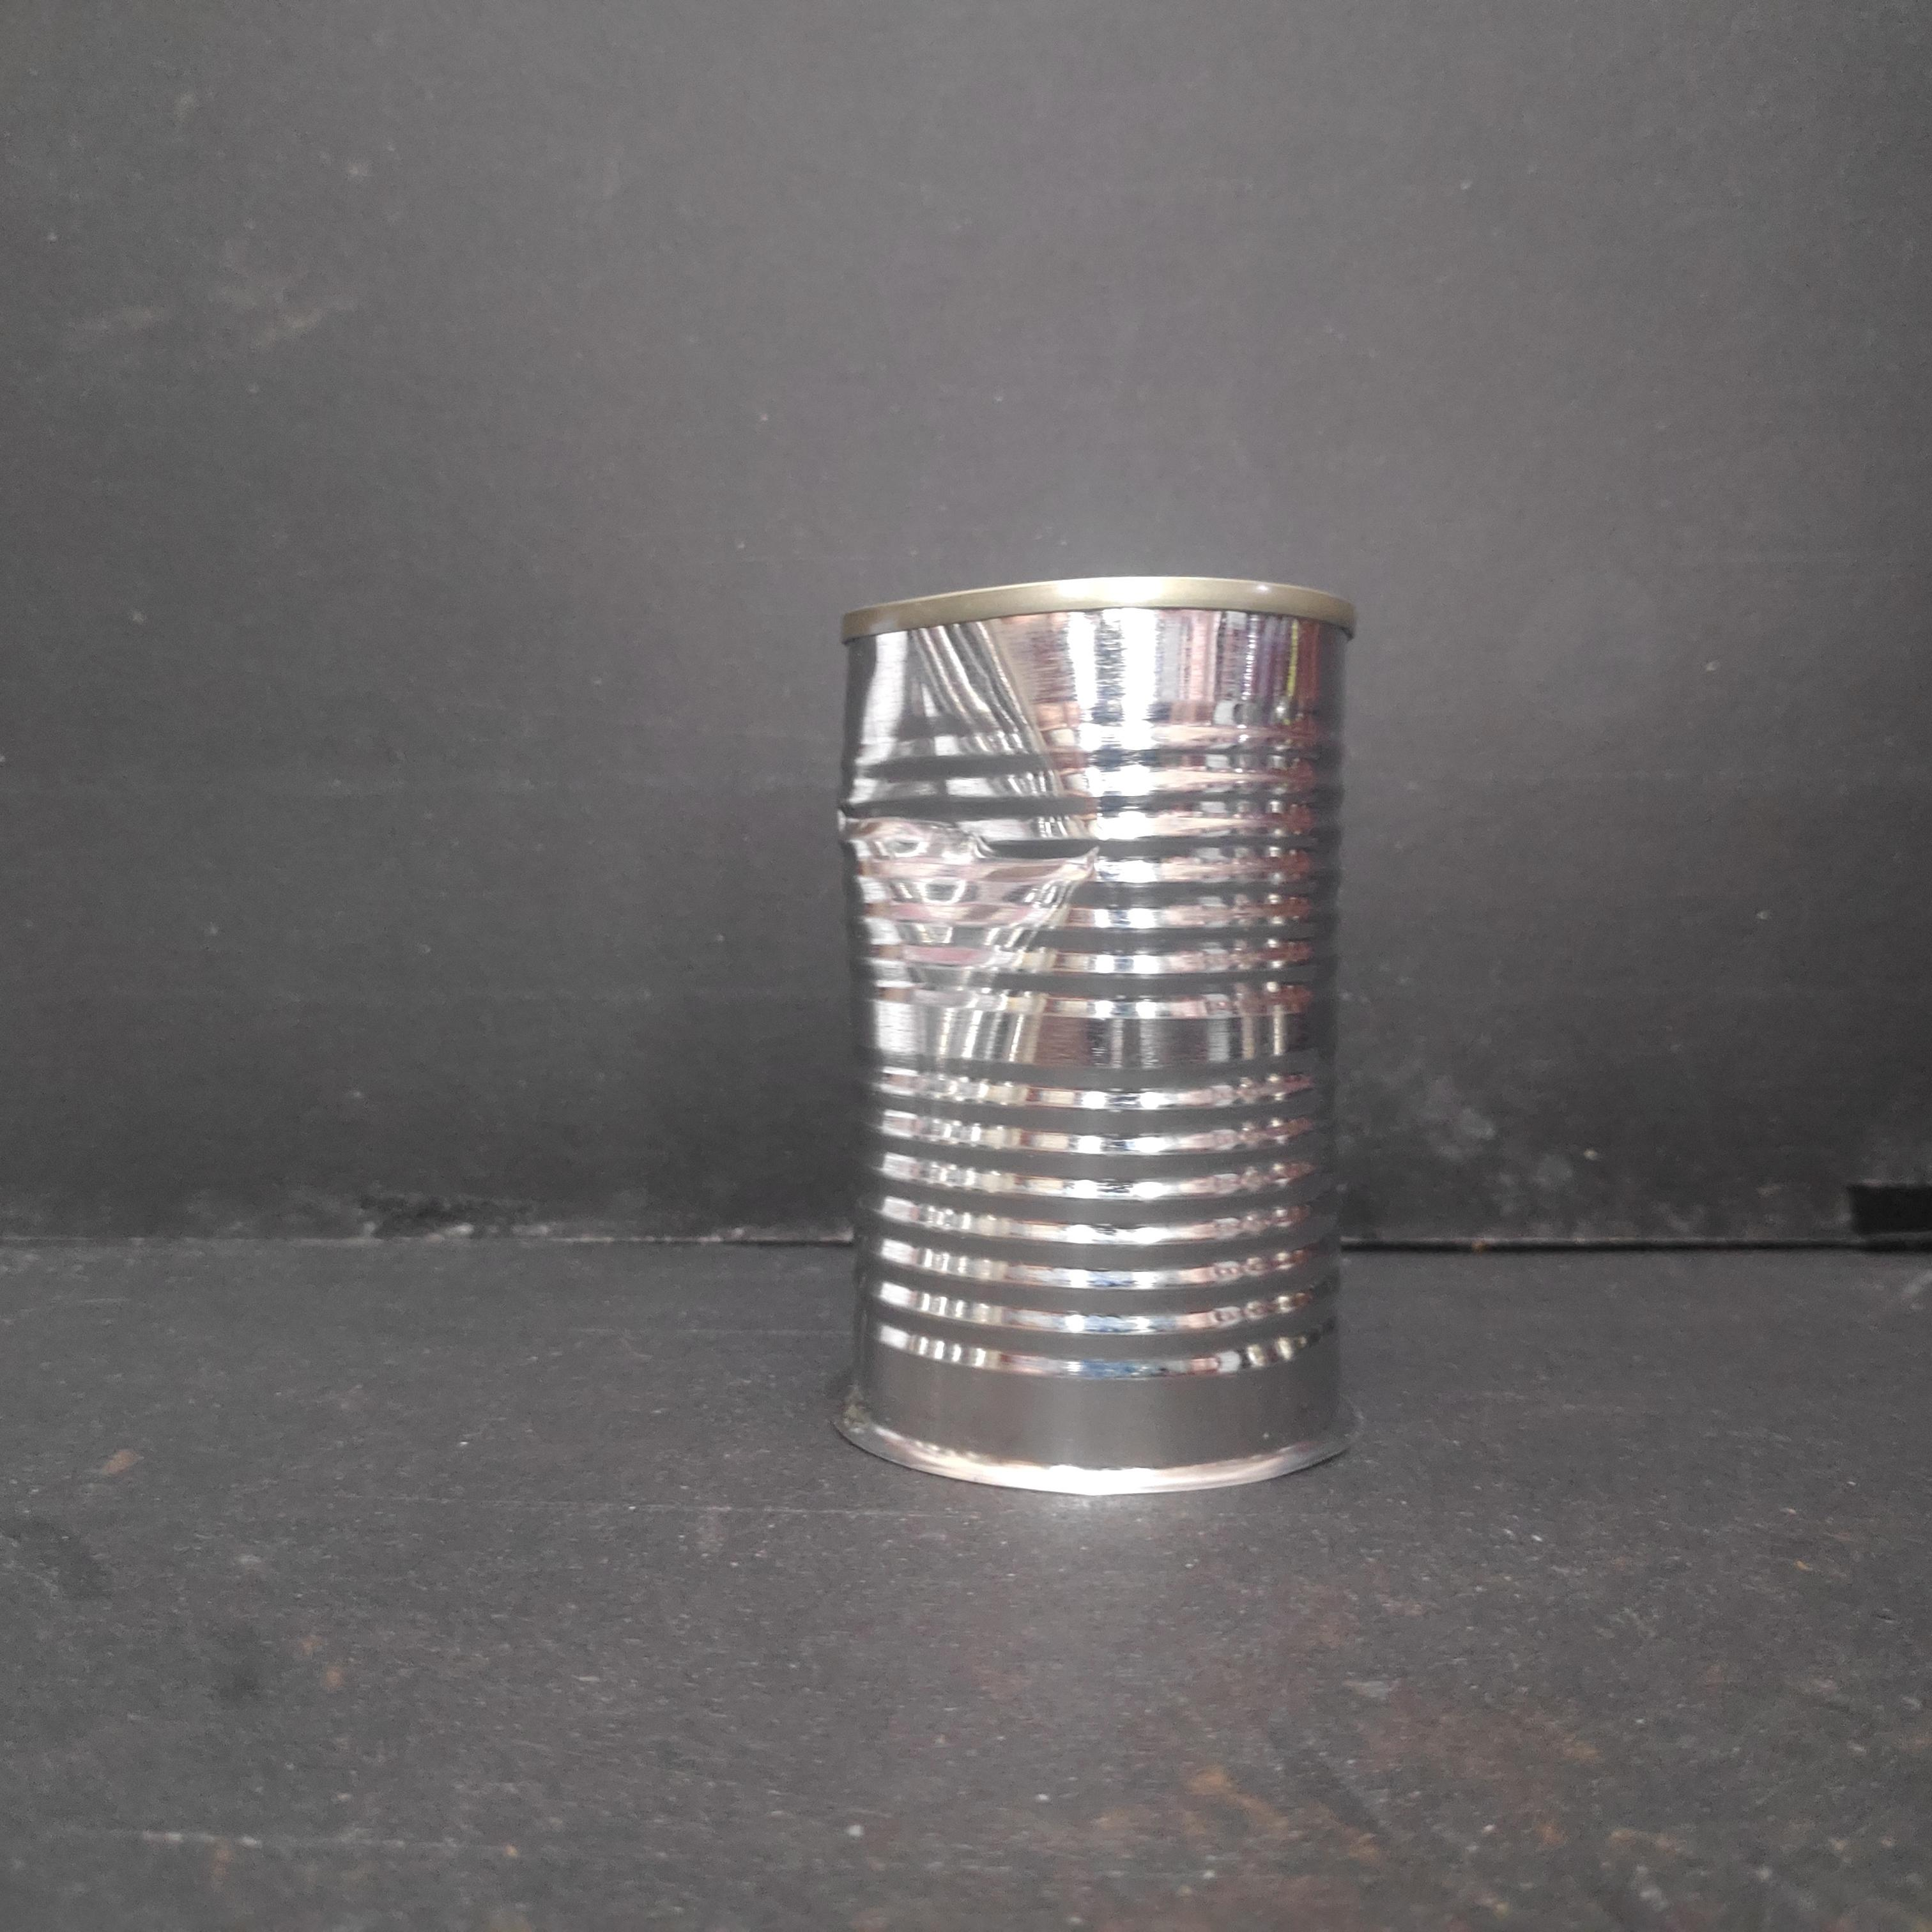Minor Defect: (832, 575, 1369, 1518)
